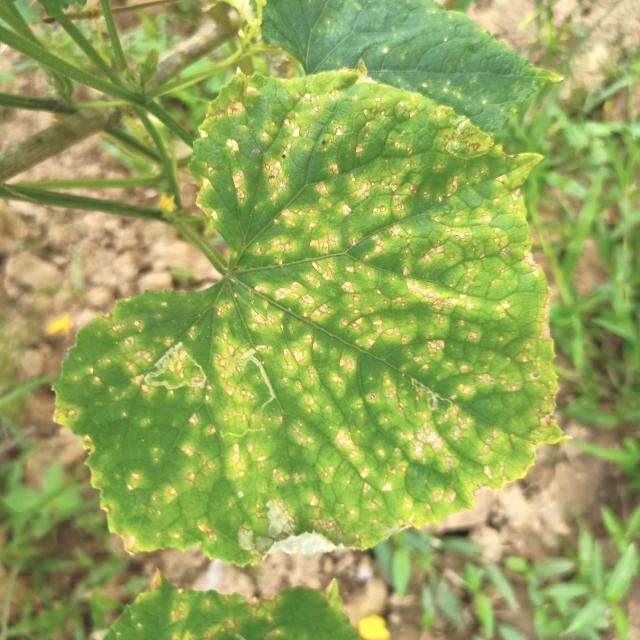disease_cucumber: (74, 86, 547, 548)
